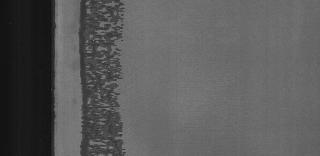oil spot: (74, 2, 138, 156)
